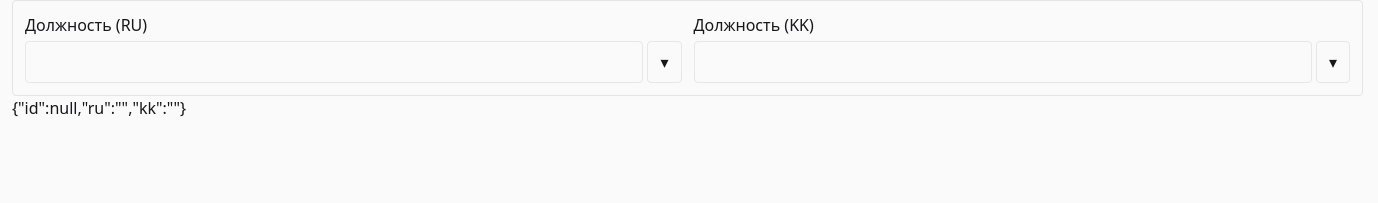
Scenario: pairs reference selection in either language, preserves independent edits on blur and replaces titles on another explicit selection
Click the button named "Открыть список должностей (RU)".
click(664, 62)  # box [648, 41, 682, 83]
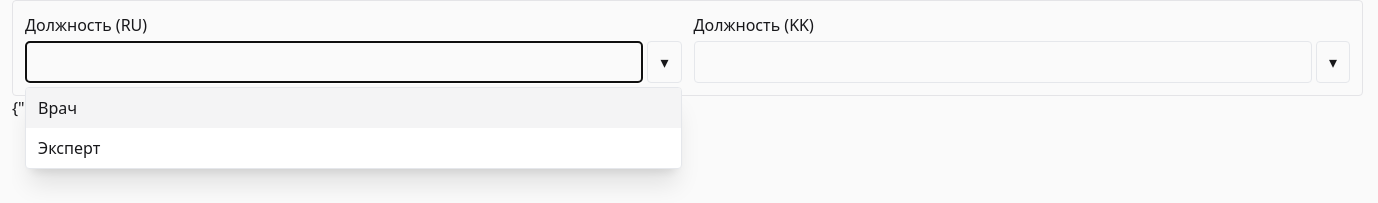
Expected: the options read "Врач", "Эксперт", in this order
Click the option "Врач".
click(58, 108)  # box [26, 88, 680, 128]
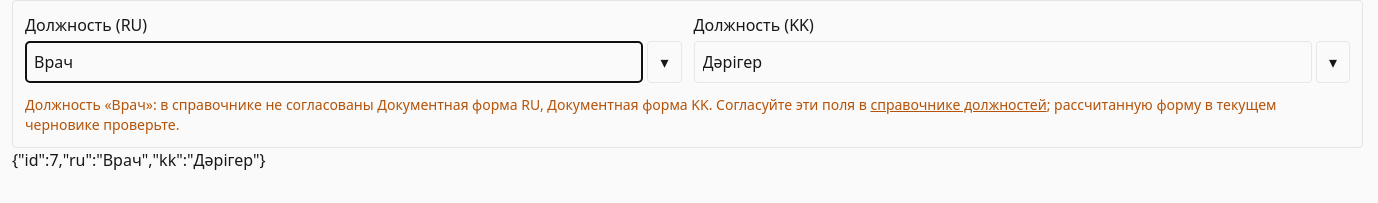
Expected: the dropdown labelled "Должность (RU)" holds "Врач"
Expected: the dropdown labelled "Должность (KK)" holds "Дәрігер", [694, 41, 1312, 83]
Replace the text in the dropdown labelled "Должность (RU)" with "Врач — историческое уточнение" at coordinates (334, 62), box [25, 41, 644, 83]
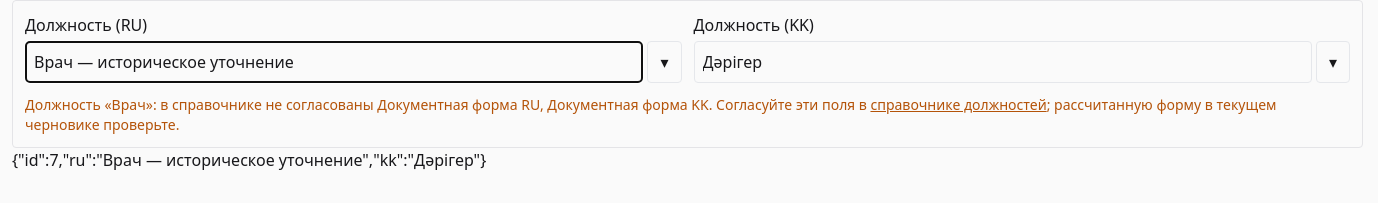
Expected: the dropdown labelled "Должность (KK)" holds "Дәрігер"
Replace the text in the dropdown labelled "Должность (KK)" with "Дәрігер — тарихи нақтылау" at coordinates (1003, 62), box [694, 41, 1312, 83]
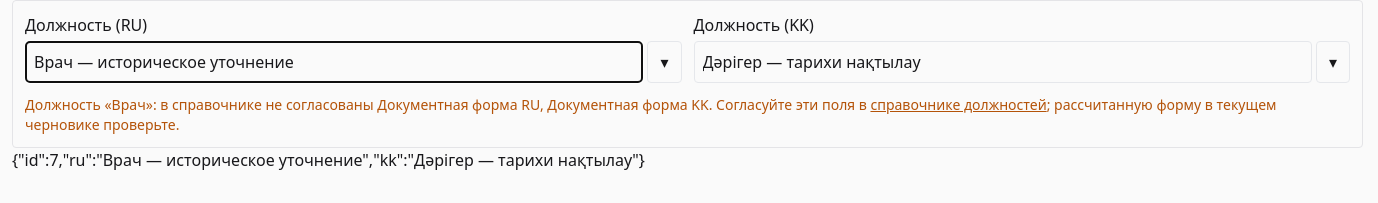
Click the button named "Открыть список должностей (KK)".
click(1333, 62)  # box [1316, 41, 1350, 83]
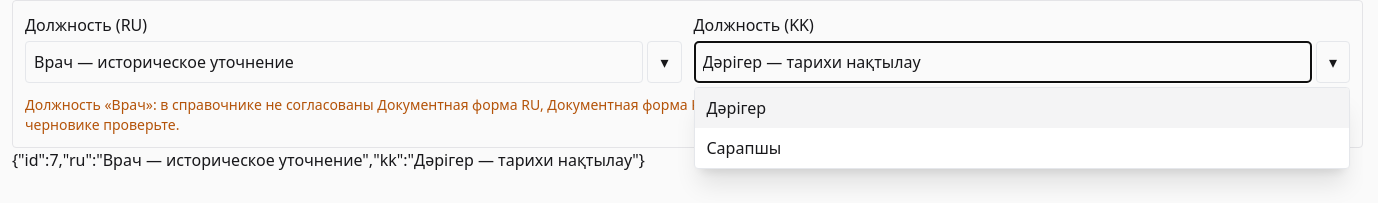
Expected: the options read "Дәрігер", "Сарапшы", in this order
Click the option "Сарапшы".
click(744, 148)  # box [694, 128, 1349, 168]
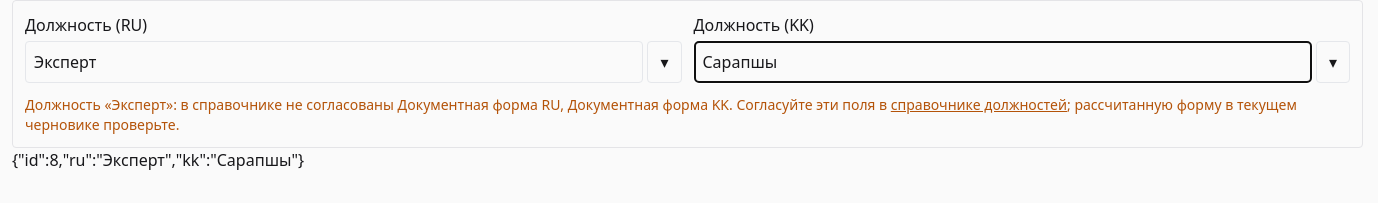
Expected: the dropdown labelled "Должность (RU)" holds "Эксперт", [25, 41, 644, 83]
Expected: the dropdown labelled "Должность (KK)" holds "Сарапшы", [694, 41, 1312, 83]
